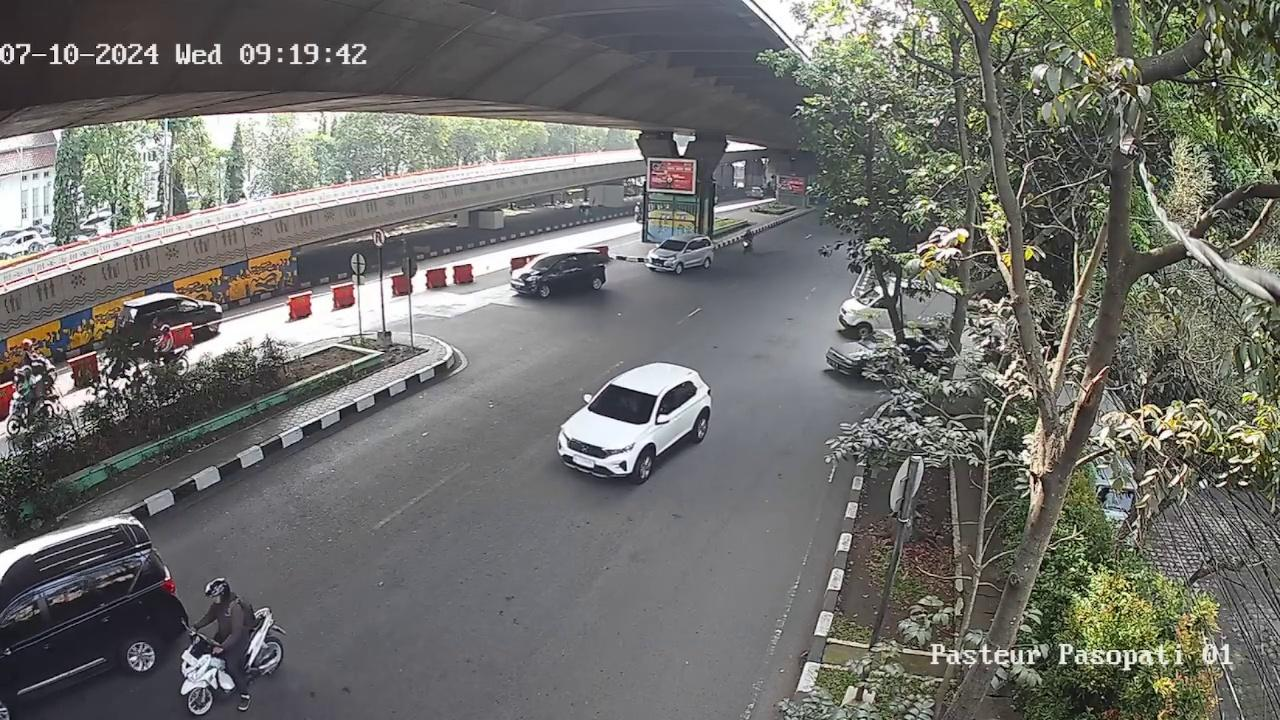pakai: (614, 392, 644, 418)
windshield: (589, 384, 656, 424)
